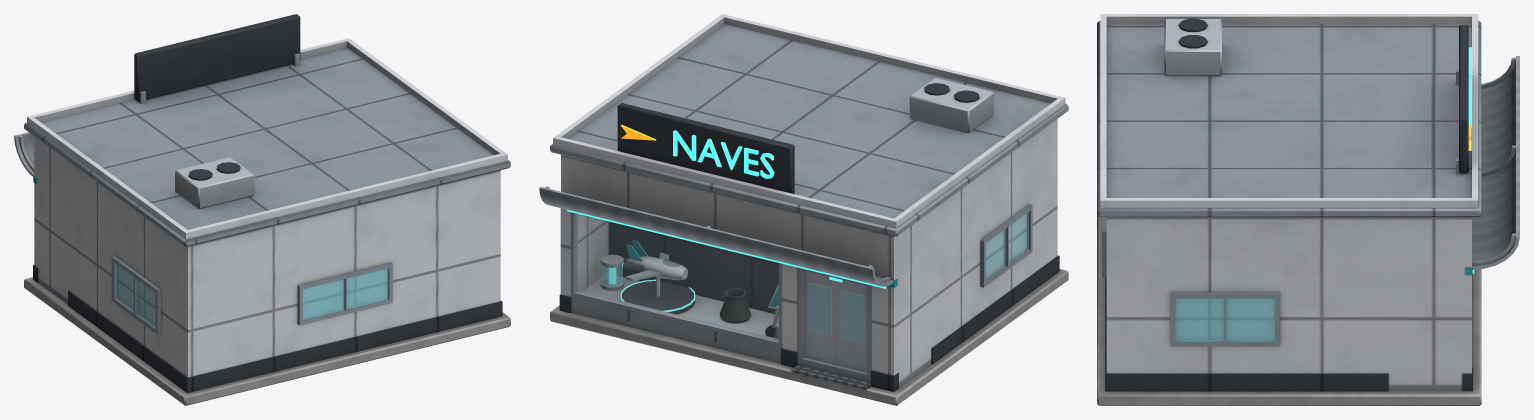
File: tienda_naves.fbx
3 renders of one model, left to right at view 1: azimuth 30°, elevation 25°; view 2: azimuth 150°, elevation 25°; view 3: azimuth 270°, elevation 25°, orthographic. The views are drawn at different scales.
Visible parts, largest first — view 1: tienda_naves, tienda_naves_cristal; view 2: tienda_naves, tienda_naves_escaparate_cristal, tienda_naves_cristal, tienda_naves_puerta_izq, tienda_naves_puerta_der, tienda_naves_neon, tienda_naves_maqueta_nave; view 3: tienda_naves, tienda_naves_cristal.
Boxes of the visible parts, x1,y1,x2,y2 form: tienda_naves: (14, 14, 510, 405); tienda_naves_cristal: (115, 263, 388, 327); tienda_naves: (539, 14, 1068, 405); tienda_naves_escaparate_cristal: (576, 214, 778, 340); tienda_naves_cristal: (602, 212, 1028, 342); tienda_naves_puerta_izq: (804, 270, 836, 364); tienda_naves_puerta_der: (836, 280, 866, 372); tienda_naves_neon: (567, 130, 886, 311); tienda_naves_maqueta_nave: (622, 240, 687, 281); tienda_naves: (1097, 14, 1519, 405); tienda_naves_cristal: (1175, 298, 1274, 341).
Size of the model in its own units: 14 by 8.75 by 13.2.
Materials: 4 (4 with a texture image).
